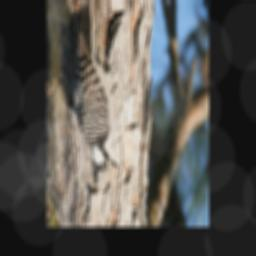Woodpecker: (73, 0, 119, 172)
